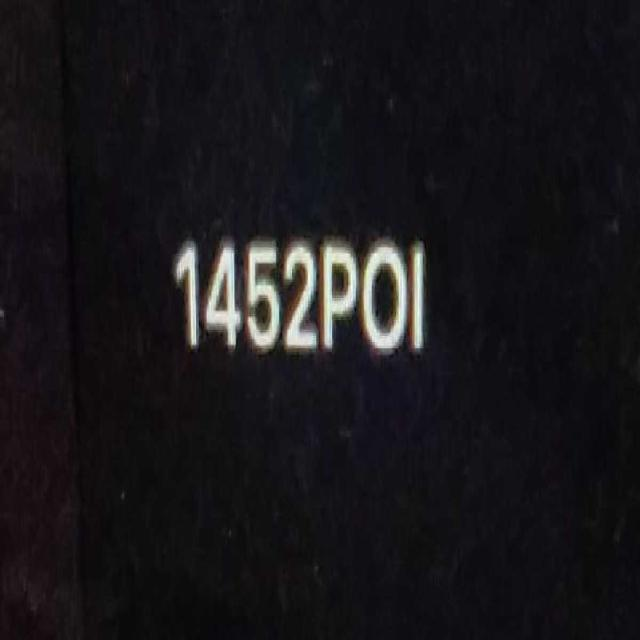license_plate: (166, 212, 432, 403), (321, 234, 357, 352)
